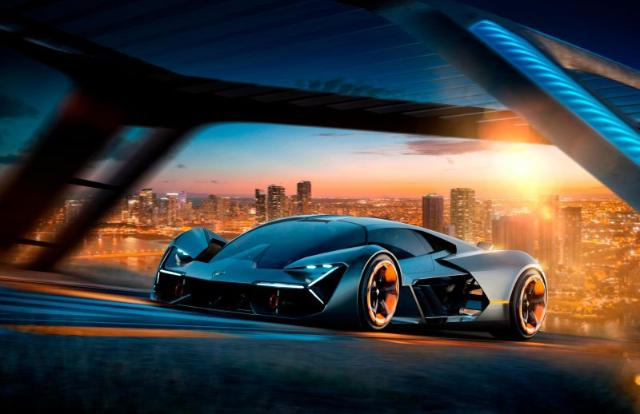lamborghini: (150, 214, 548, 338)
